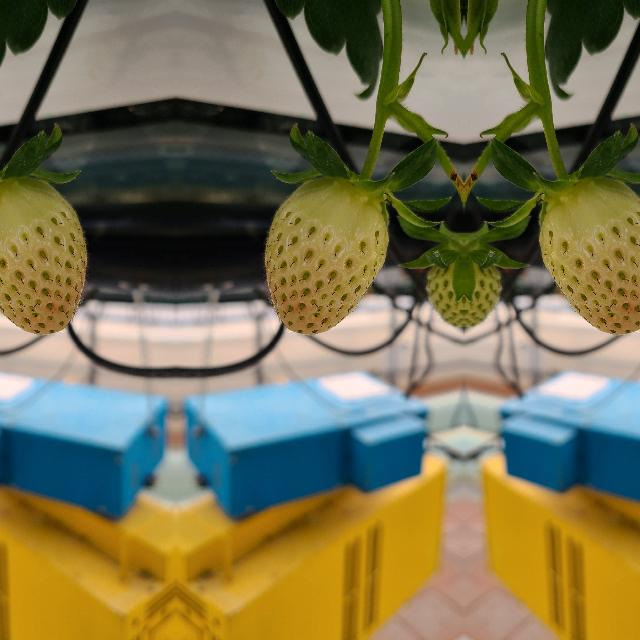Health_50: (264, 180, 388, 334), (538, 180, 640, 334), (0, 180, 86, 334)
